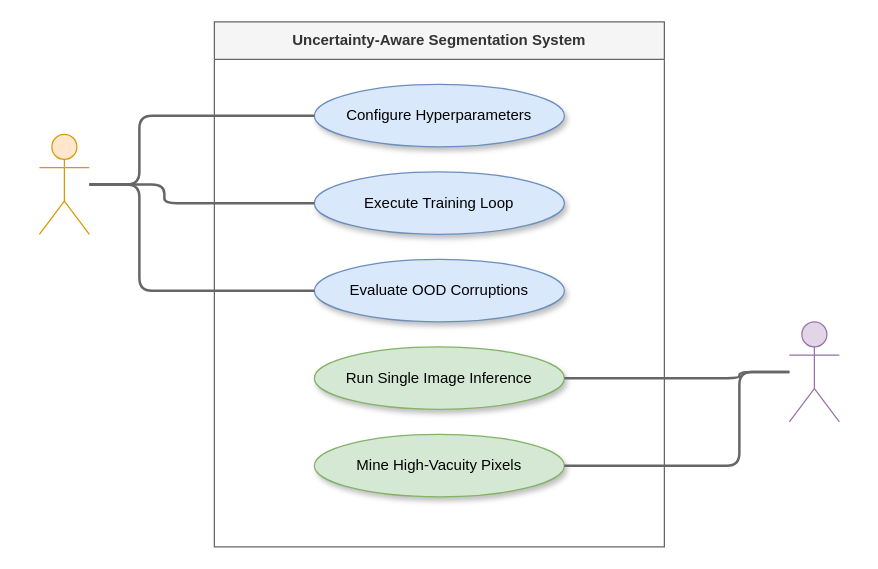
Some shapes in this 878 by 569 pixel diagram are drawn without their labels. The shapes that lost their labels are listed below. From the top down, each one's centre as x and y in pixels, then its label:
At pixel 63 183: "ML Engineer".
At pixel 813 371: "Data Analyst".
